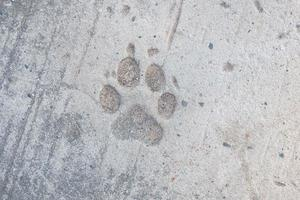chien: (95, 43, 178, 147)
